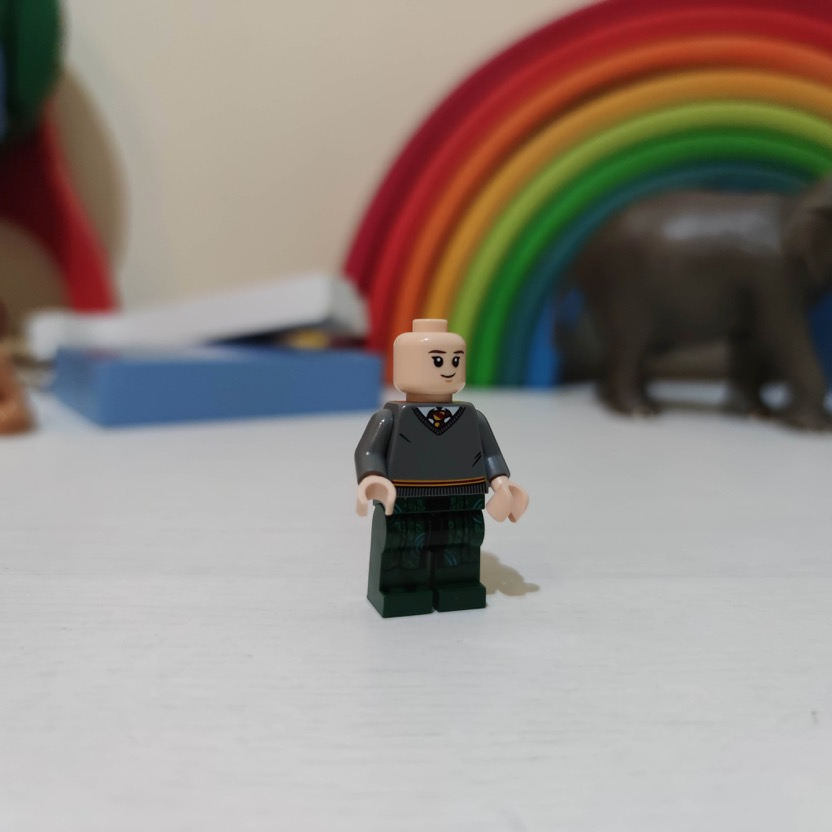lego: (353, 318, 531, 621)
